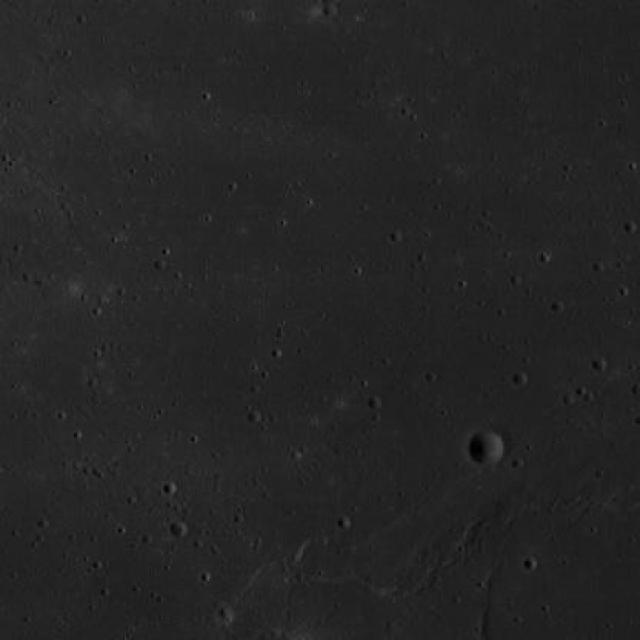crater: (466, 431, 502, 467), (169, 520, 186, 538), (217, 606, 232, 622)
